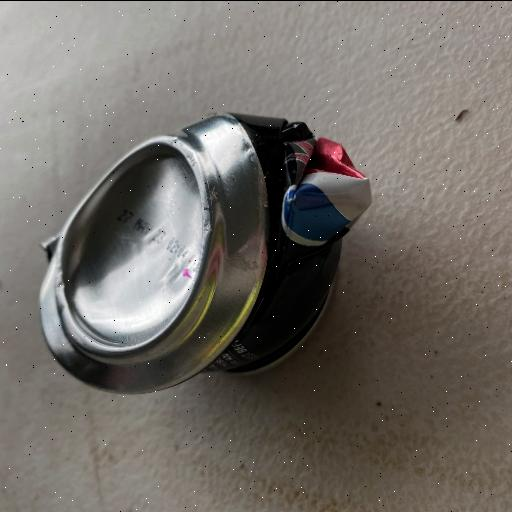Metal: (36, 108, 373, 396)
